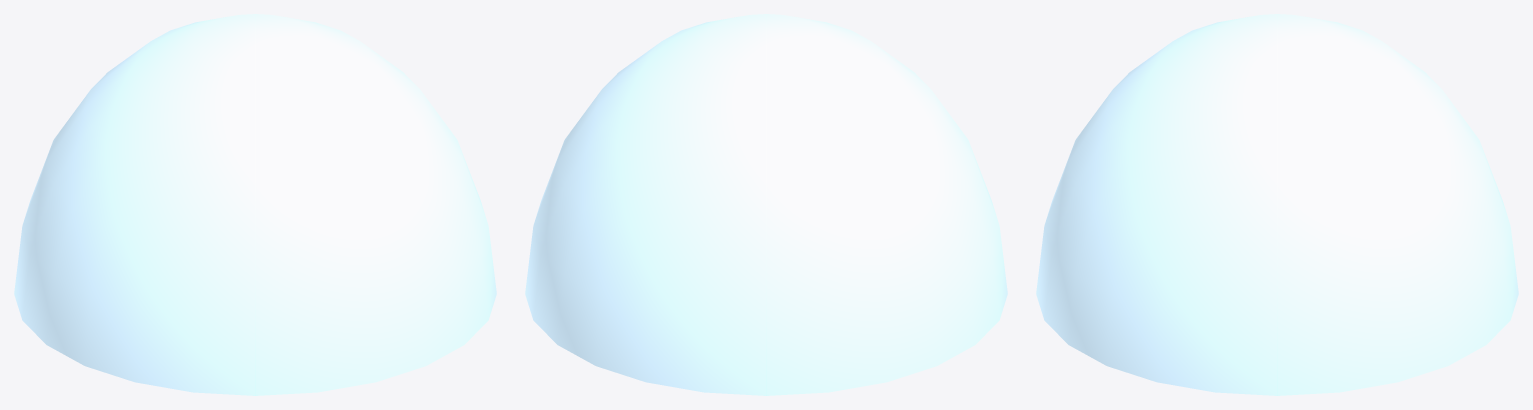
The model's file is jelly.glb.
The picture shows the model from 3 angles, left to right: view 1: azimuth 30°, elevation 25°; view 2: azimuth 150°, elevation 25°; view 3: azimuth 270°, elevation 25°; orthographic projection.
Parts seen in each view (by area): view 1: jelly; view 2: jelly; view 3: jelly.
Part boxes in pixels (box(x1,y1,x2,y2)): jelly: box(14, 14, 496, 395); jelly: box(525, 14, 1007, 395); jelly: box(1036, 14, 1518, 395).
Bounding box in the file's own units: 1 × 0.6 × 1.
